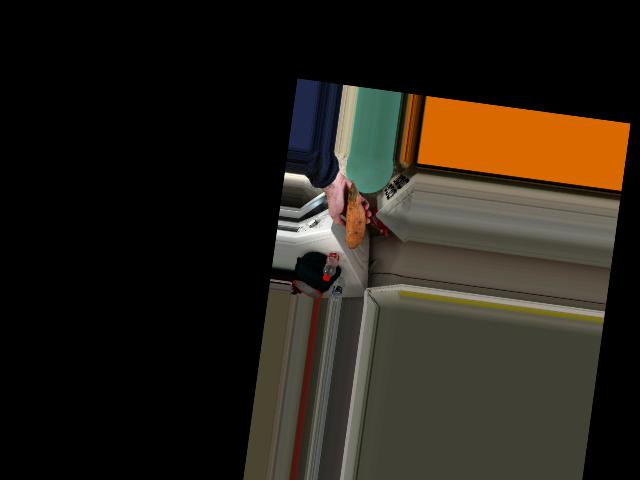sweet_potato: (339, 187, 370, 243)
